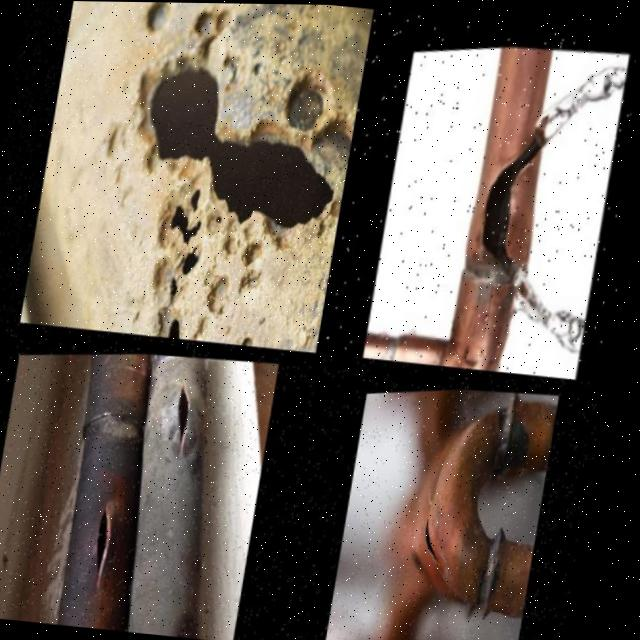hole: (195, 88, 356, 243), (124, 28, 243, 178), (272, 49, 344, 136), (208, 215, 271, 303), (160, 191, 212, 235), (187, 3, 238, 35), (160, 295, 197, 339), (179, 230, 210, 270), (131, 3, 178, 29), (159, 257, 187, 299), (183, 170, 210, 198), (239, 318, 261, 345)
rupture: (471, 128, 551, 279), (104, 496, 124, 582), (185, 374, 203, 452), (433, 500, 452, 559)
